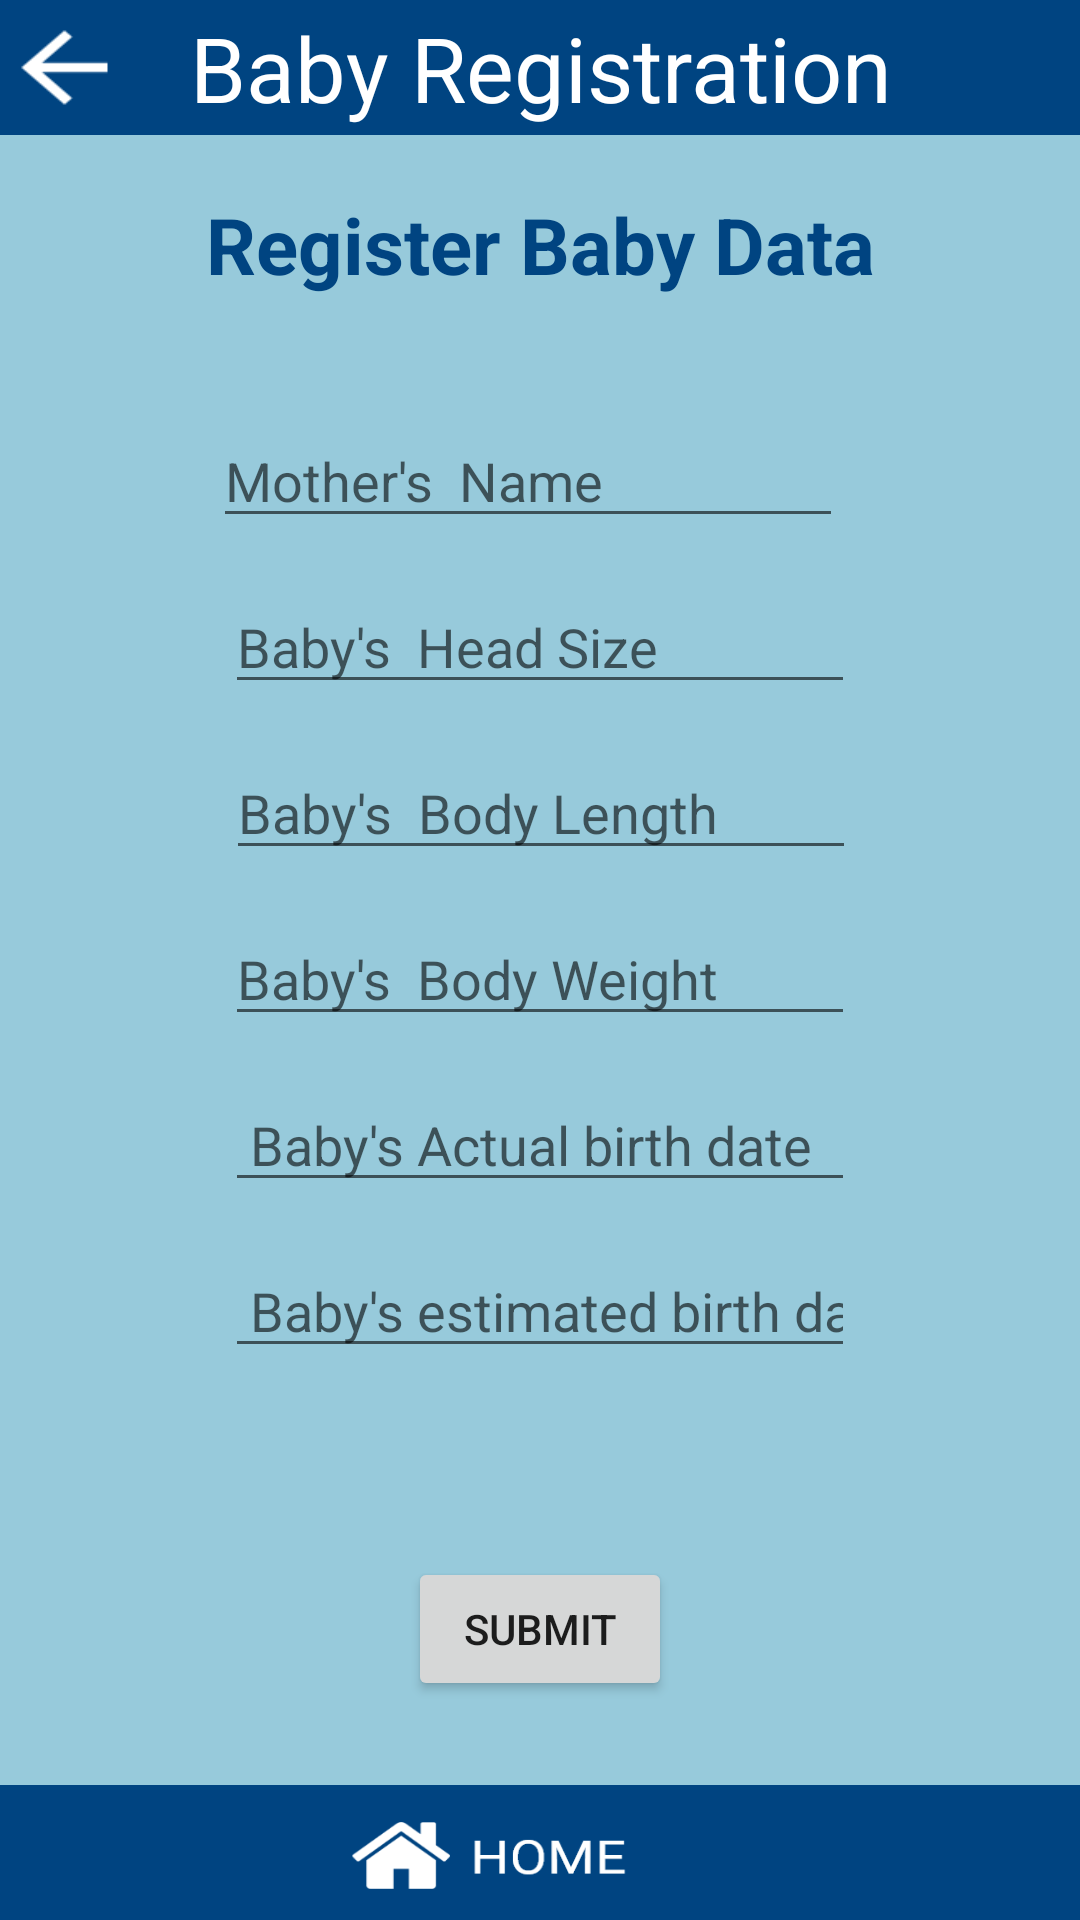

Screen size 1080w x 1920h. Icon name, then its box in pixels as (x1, y1, x2, y2):
back: (21, 30, 108, 105)
